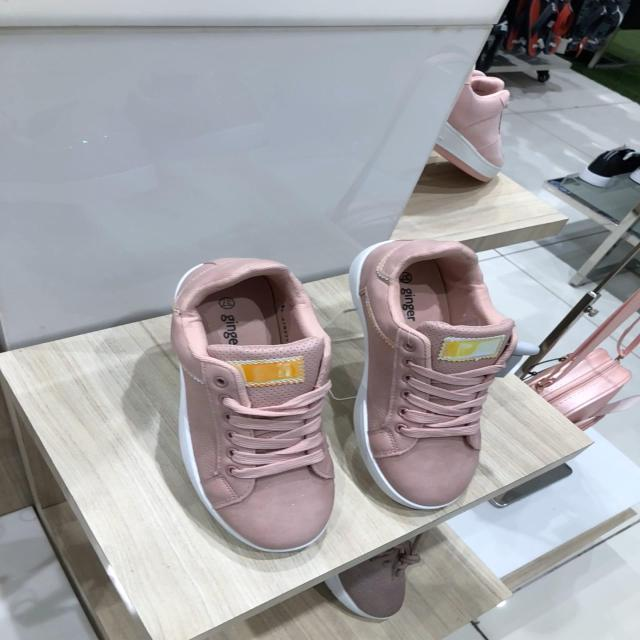shoe: (169, 259, 336, 551), (348, 240, 518, 512)
